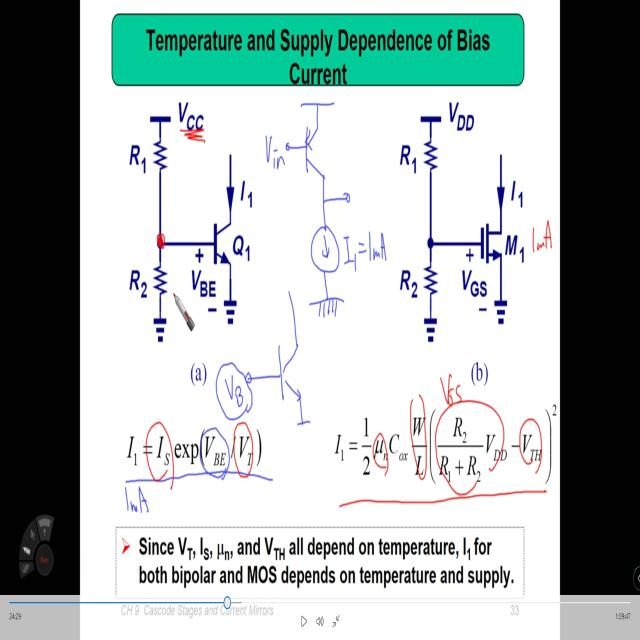panseo: (256, 94, 396, 321), (216, 284, 312, 434), (115, 472, 160, 525), (530, 219, 556, 254)
